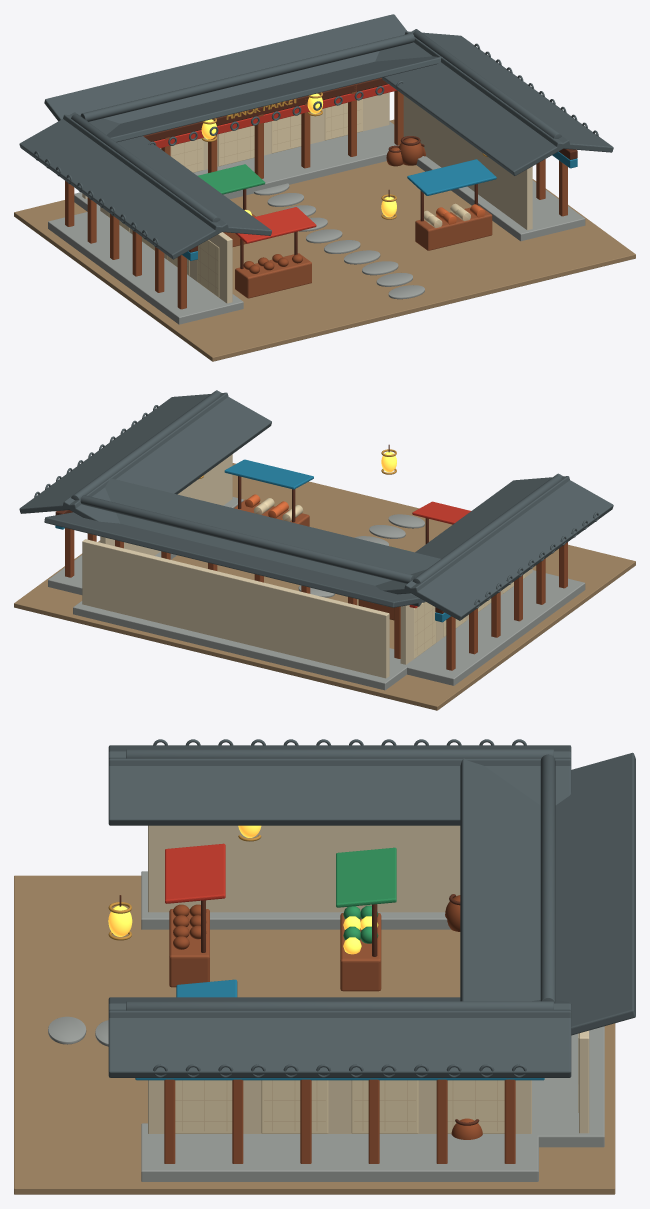
Rendered from hanok_market_courtyard.glb.
3 renders of one model, top to bottom at view 1: azimuth 30°, elevation 25°; view 2: azimuth 150°, elevation 25°; view 3: azimuth 270°, elevation 25°, orthographic. The views are drawn at different scales.
Visible parts, largest first — view 1: HanokMarket_Courtyard, Hanok_Back_RoofBack, Hanok_Left_RoofFront, Hanok_Right_RoofBack, Hanok_Left_Foundation, Hanok_Back_RoofFront, Hanok_Right_RoofFront, Hanok_Right_PlasterWall, Hanok_Back_Foundation, Hanok_Left_RoofBack, Hanok_Back_RoofRidge, Hanok_Right_Foundation (+21 smaller); view 2: Hanok_Back_PlasterWall, HanokMarket_Courtyard, Hanok_Back_RoofFront, Hanok_Left_RoofFront, Hanok_Right_RoofBack, Hanok_Back_RoofBack, Hanok_Left_Foundation, Hanok_Right_RoofFront, Hanok_Back_Foundation, Hanok_Left_RoofBack, Hanok_Back_RoofRidge, Hanok_Right_PlasterWall (+9 smaller); view 3: HanokMarket_Courtyard, Hanok_Right_RoofFront, Hanok_Left_RoofBack, Hanok_Back_RoofBack, Hanok_Left_PlasterWall, Hanok_Back_RoofFront, Hanok_Right_Foundation, Hanok_Left_RoofFront, Hanok_Back_Foundation, Hanok_Right_RoofBack, Hanok_Right_PlasterWall, Hanok_Left_Foundation (+21 smaller).
Part boxes in pixels (x1,y1,x2,y2): HanokMarket_Courtyard: (14, 119, 635, 361); Hanok_Back_RoofBack: (44, 14, 406, 123); Hanok_Left_RoofFront: (19, 112, 228, 259); Hanok_Right_RoofBack: (375, 29, 569, 175); Hanok_Left_Foundation: (48, 211, 243, 324); Hanok_Back_RoofFront: (107, 56, 442, 142); Hanok_Right_RoofFront: (405, 31, 613, 152); Hanok_Right_PlasterWall: (403, 95, 532, 230); Hanok_Back_Foundation: (74, 121, 399, 219); Hanok_Left_RoofBack: (63, 114, 271, 235); Hanok_Back_RoofRidge: (80, 33, 414, 121); Hanok_Right_Foundation: (416, 156, 585, 241); Hanok_Back_PlasterWall: (82, 539, 389, 678); HanokMarket_Courtyard: (14, 463, 635, 710); Hanok_Back_RoofFront: (105, 478, 440, 606); Hanok_Left_RoofFront: (404, 473, 613, 620); Hanok_Right_RoofBack: (63, 390, 271, 523); Hanok_Back_RoofBack: (44, 512, 425, 607); Hanok_Left_Foundation: (390, 570, 585, 685); Hanok_Right_RoofFront: (19, 392, 228, 513); Hanok_Back_Foundation: (73, 601, 406, 690); Hanok_Left_RoofBack: (375, 476, 569, 594); Hanok_Back_RoofRidge: (80, 495, 414, 583); Hanok_Right_PlasterWall: (100, 454, 232, 555); HanokMarket_Courtyard: (14, 875, 615, 1194); Hanok_Right_RoofFront: (108, 1003, 571, 1077); Hanok_Left_RoofBack: (108, 751, 571, 825); Hanok_Back_RoofBack: (555, 752, 635, 1035); Hanok_Left_PlasterWall: (148, 825, 460, 912); Hanok_Back_RoofFront: (460, 758, 540, 1001); Hanok_Right_Foundation: (141, 1123, 538, 1181); Hanok_Left_RoofFront: (108, 745, 571, 765); Hanok_Back_Foundation: (492, 1026, 604, 1147); Hanok_Right_RoofBack: (108, 997, 571, 1017); Hanok_Right_PlasterWall: (148, 1080, 531, 1133); Hanok_Left_Foundation: (141, 871, 450, 929).
Bounding box in the file's own units: 16.7 × 3.9 × 13.45.
